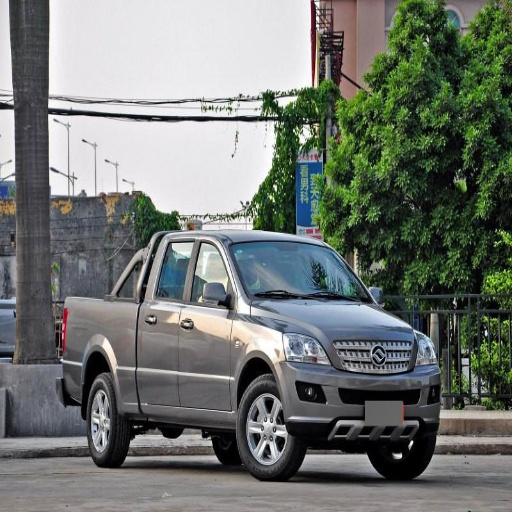back_left_light: (138, 239, 194, 406)
back_right_light: (280, 337, 445, 446)
front_bumper: (232, 242, 371, 302)
front_left_light: (179, 238, 235, 411)
front_right_door: (284, 333, 329, 365)
front_right_light: (263, 301, 414, 349)
tailgate: (44, 300, 134, 408)
trunk: (233, 377, 304, 479), (87, 373, 128, 467), (371, 424, 433, 478)
